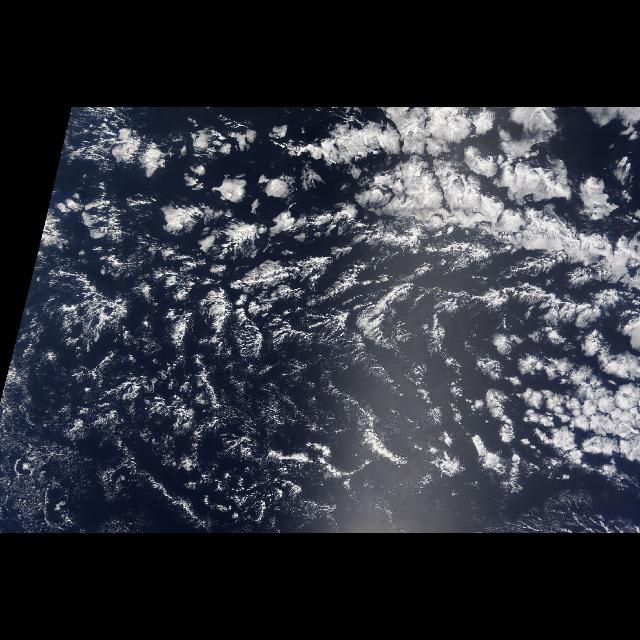Fish: (330, 138, 640, 268)
Flower: (116, 110, 336, 228)
Sugar: (2, 300, 376, 522)
